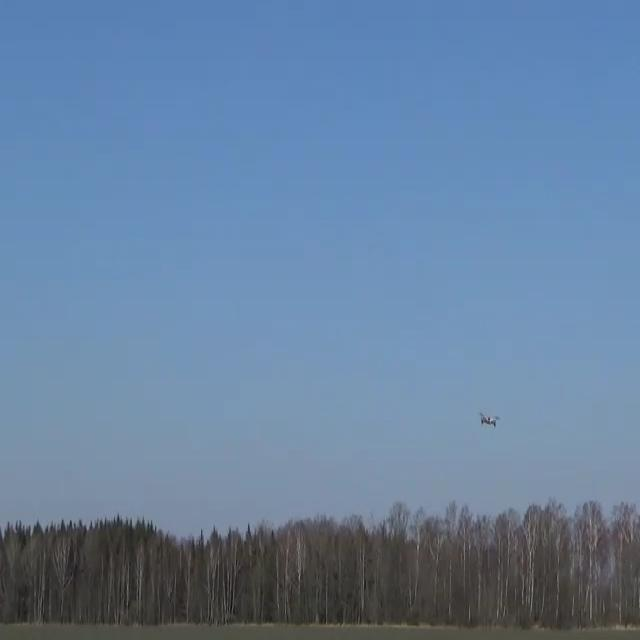Drone: (473, 401, 510, 442)
